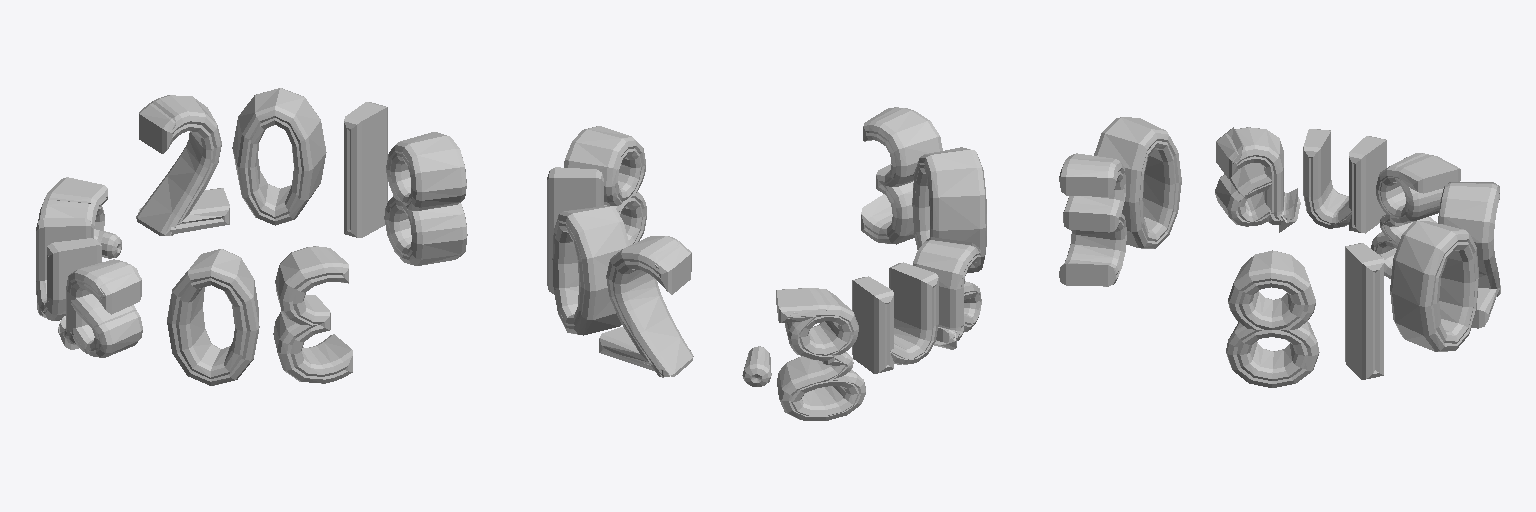
Rendered from drUnauticna.obj.
The picture shows the model from 3 angles: view 1: azimuth 30°, elevation 25°; view 2: azimuth 150°, elevation 25°; view 3: azimuth 270°, elevation 25°; orthographic projection.
Visible parts, largest first — view 1: Text; view 2: Text; view 3: Text.
Boxes of the visible parts, box(x1,y1,x2,y2) form: Text: box(36, 88, 467, 385); Text: box(547, 107, 986, 420); Text: box(1059, 117, 1500, 387).
Size of the model in its own units: 2.34 by 0.9142 by 2.33.